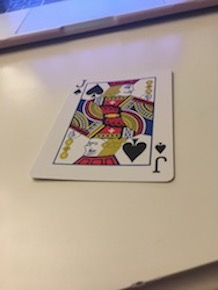JackOfSpades: (25, 70, 183, 187)
